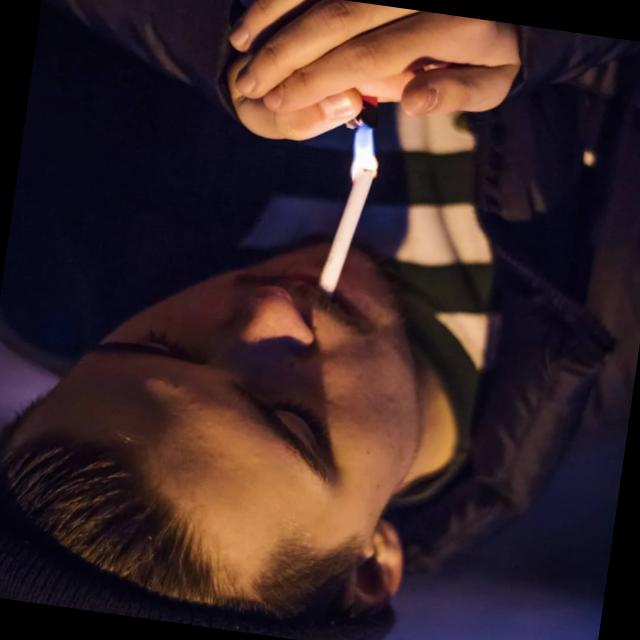smoke: (310, 150, 382, 306)
